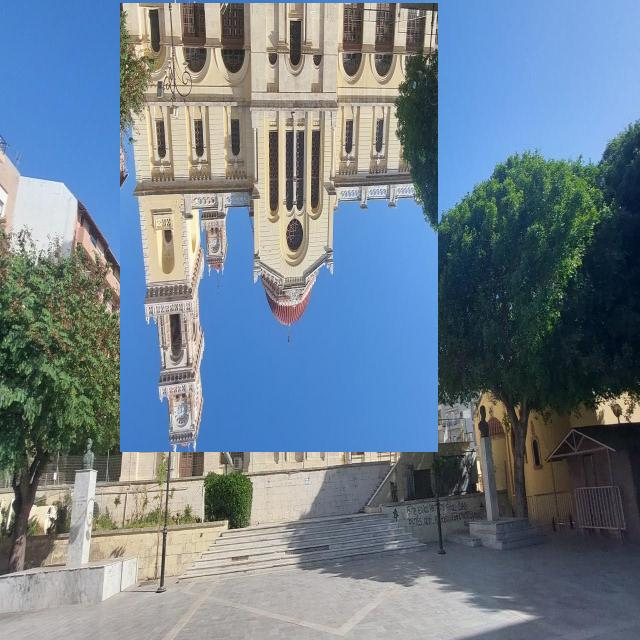Agios Minas: (121, 4, 439, 453)
